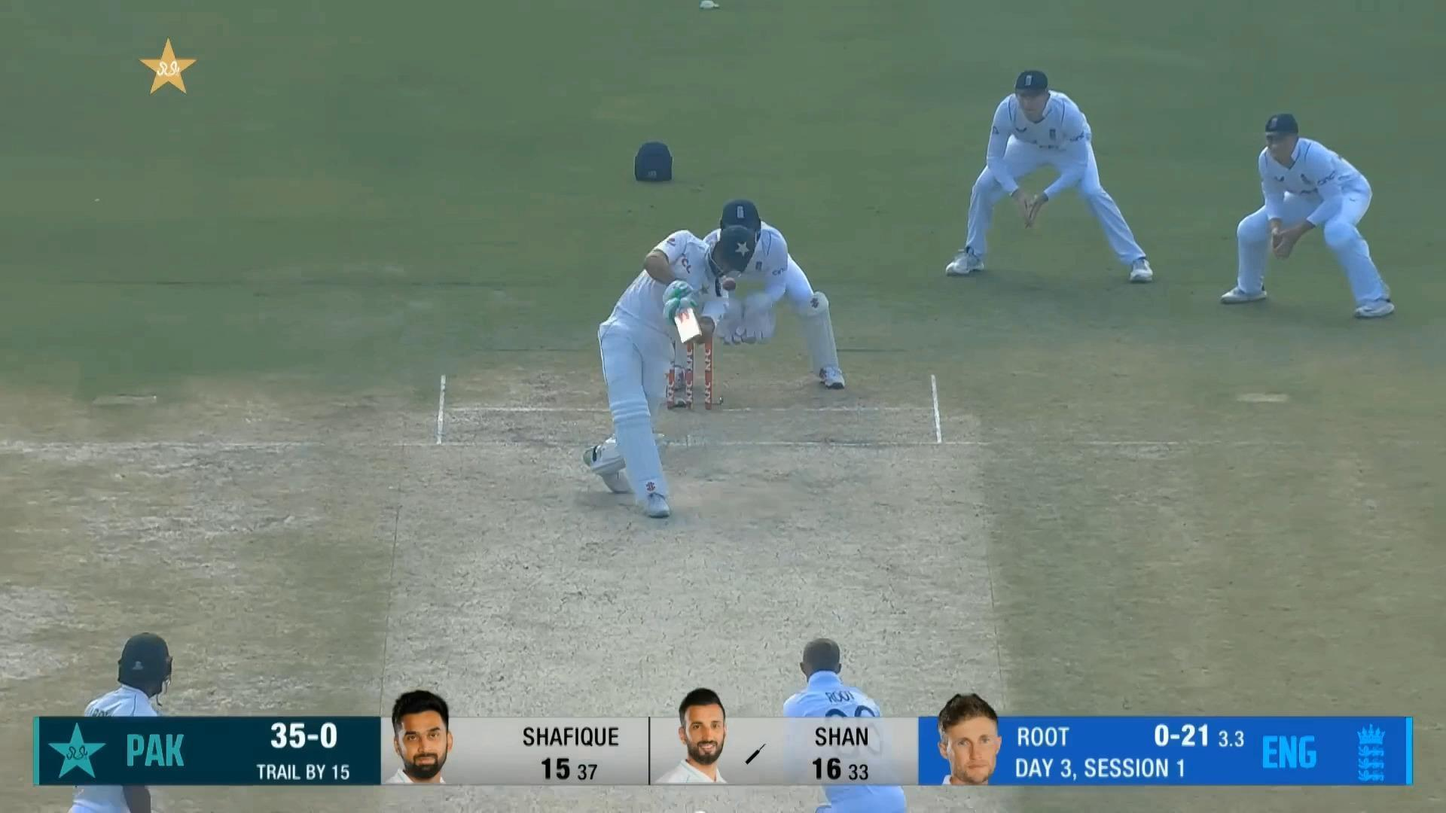BM 1: (583, 222, 760, 521)
BO: (782, 636, 912, 813)
